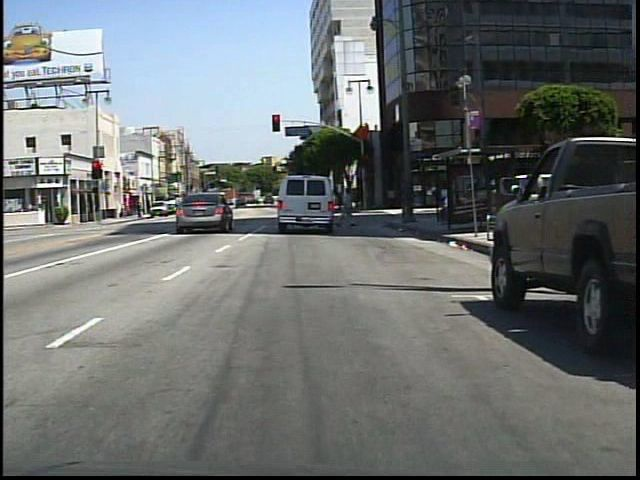person: (336, 182, 358, 228), (193, 192, 207, 218)
